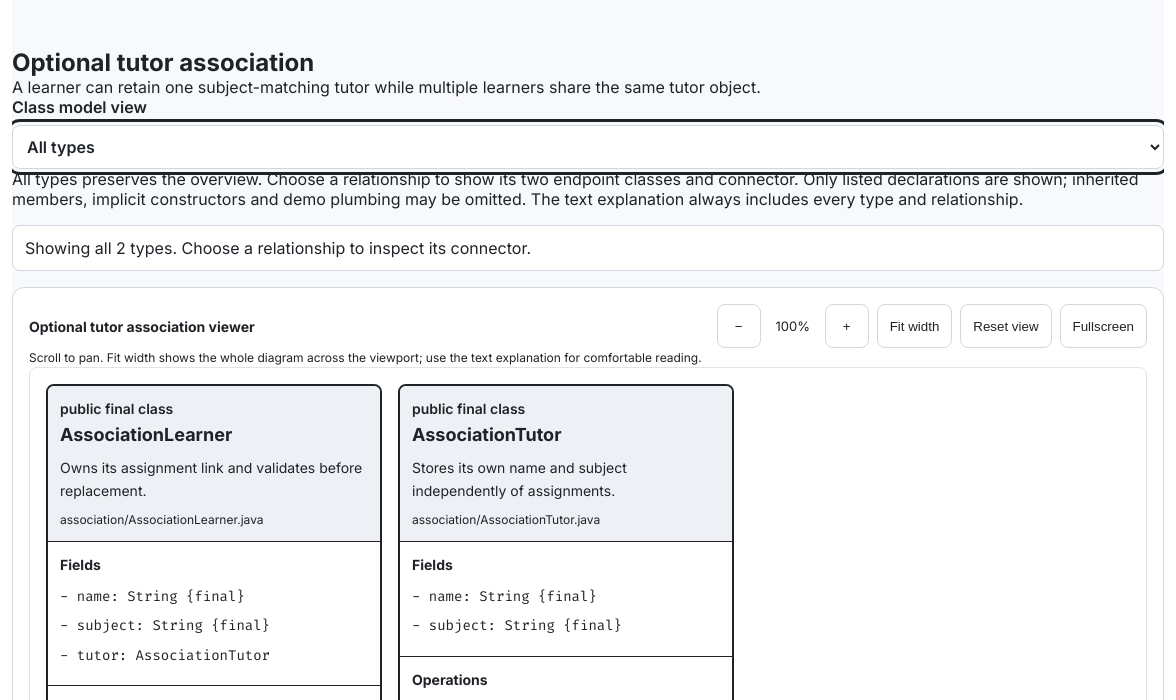
Curated relationship connectors › Association selects actual endpoint compartments with the correct connector ends
Select "Association: AssociationLearner / AssociationTutor" in the dropdown labelled "Class model view" at {"x": 588, "y": 147}, box [12,125,1164,169]
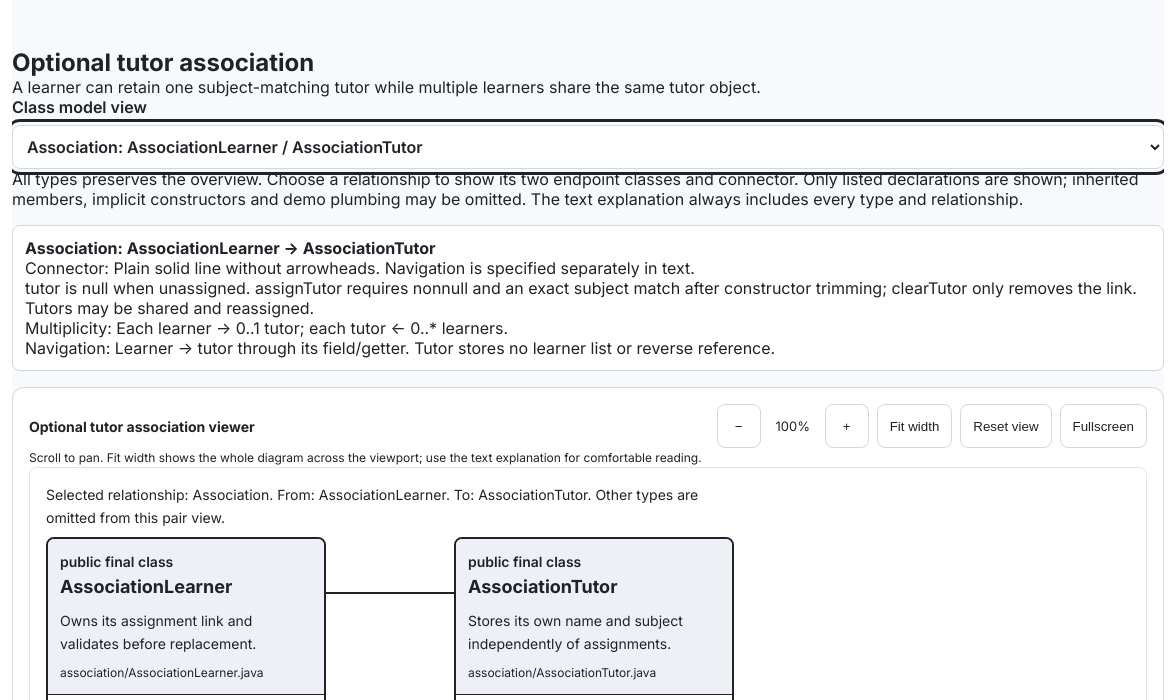
Check: the element with class "lesson-class-model-selection" shows "tutor is null when unassigned. assignTutor requires nonnull and an exact subject match after constructor trimming; clearTutor only removes the link. Tutors may", box [25,278,1137,318]
Check: the element with class "lesson-class-model-selection" shows "Learner → tutor through its field/getter. Tutor stores no learner list or reverse reference.", box [115,338,775,358]
Check: the element with class "lesson-class-model-selection" shows "Each learner → 0..1 tutor; each tutor ← 0..* learners.", box [116,318,508,338]
Select "All types" in the dropdown labelled "Class model view" at {"x": 588, "y": 147}, box [12,125,1164,169]
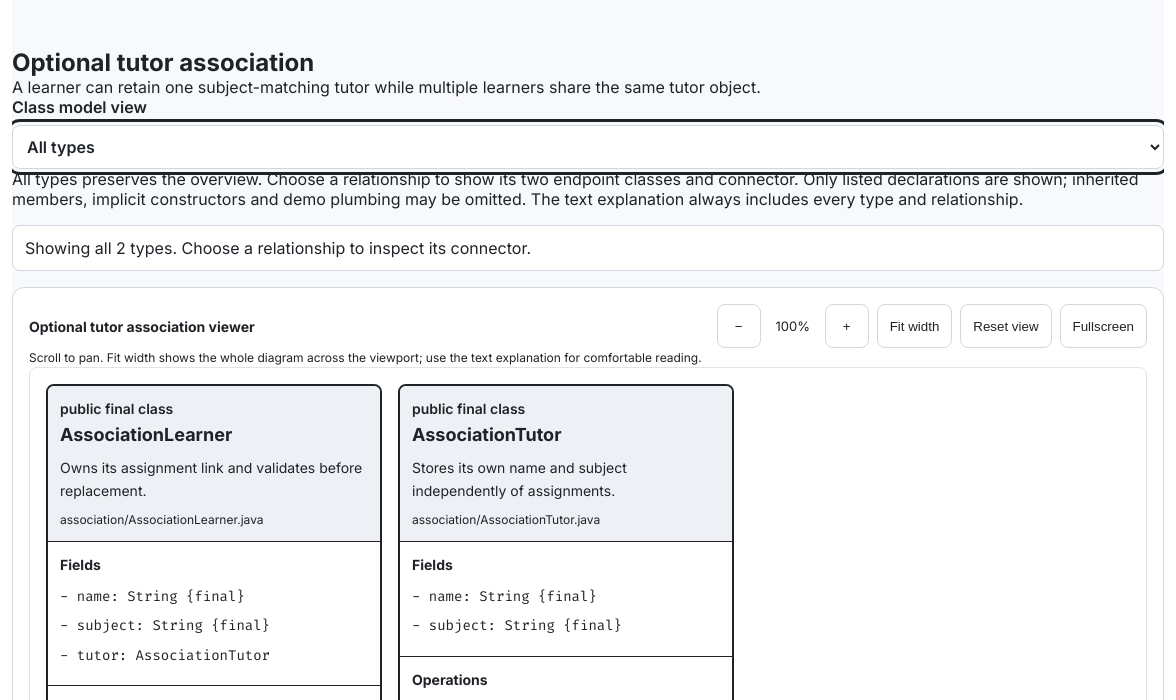
Check: the icon is gone
